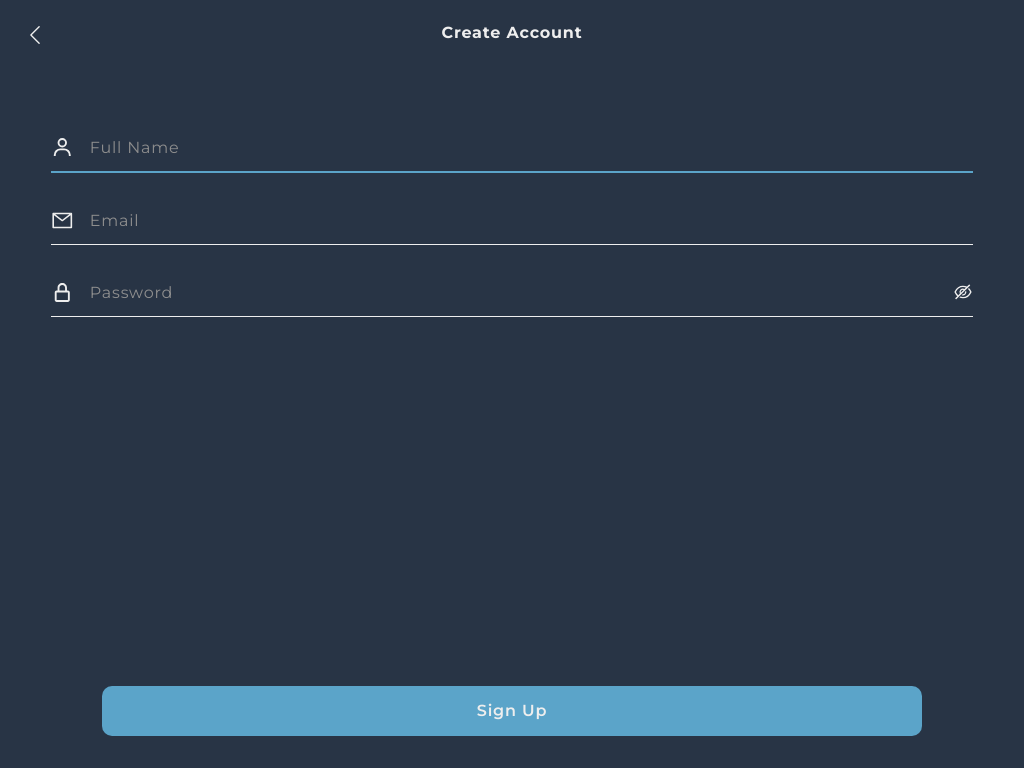
Test: EmailSignup › Signup form input testing › Should not allow more than 30 characters in name input
Type "123456789abcdefghijklmnopqrstuv" into the field with placeholder "full name" at (498, 148), box [74, 124, 923, 171]
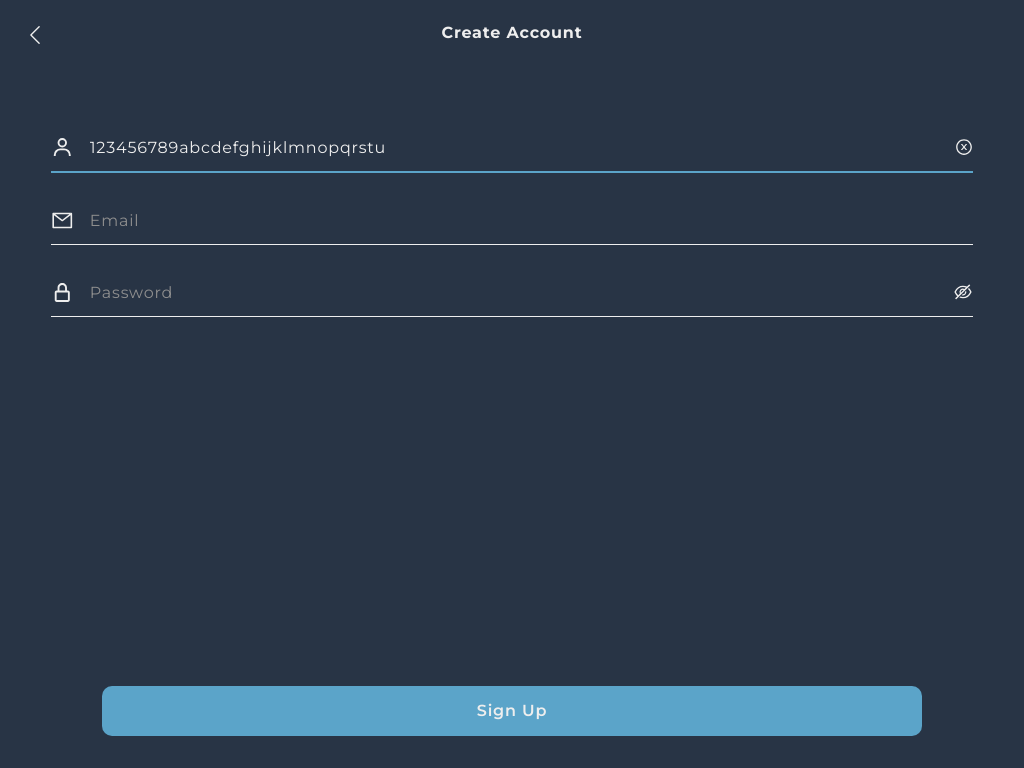
Expected: the field with placeholder "full name" holds "123456789abcdefghijklmnopqrstu", [74, 124, 923, 171]
